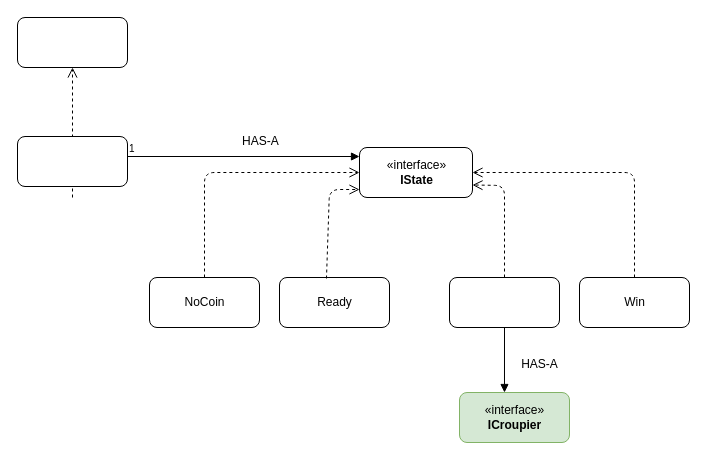
This 707x460 diagram has some shape labels left out. Here are the shapes that lost their labels. From the top down, the centre of each, then its label:
At point 72,42: "«interface» ISlotMachine".
At point 72,161: "SlotMachine".
At point 504,302: "Game".
